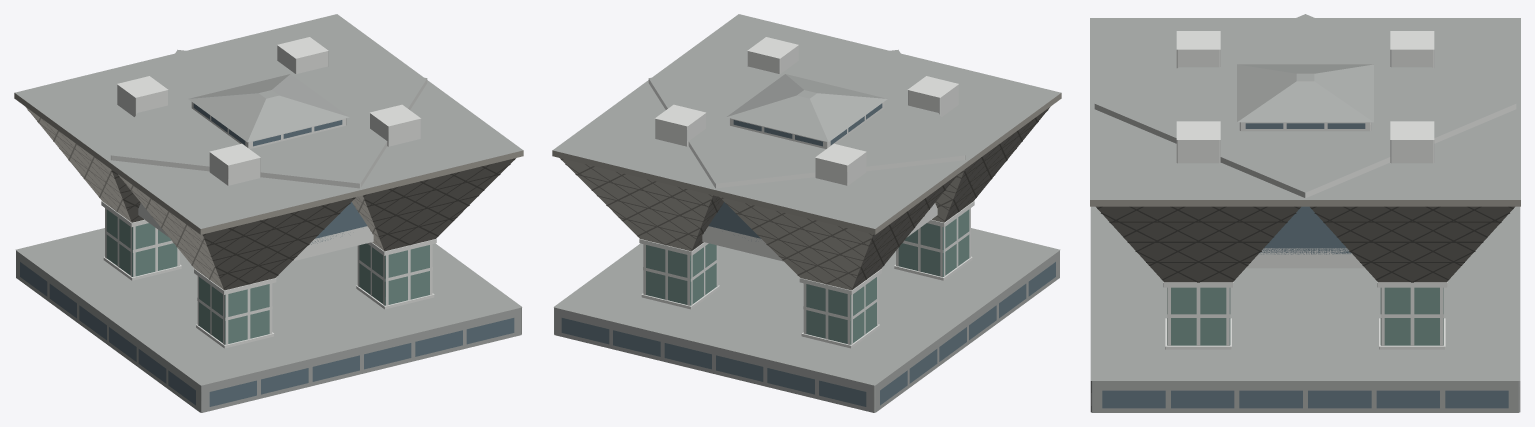
File: tokyo-big-sight.glb
3 views of the same model, side by side, from view 1: azimuth 30°, elevation 25°; view 2: azimuth 150°, elevation 25°; view 3: azimuth 270°, elevation 25° (orthographic). The views are drawn at different scales.
Parts seen in each view (by area): view 1: Tokyo Big Sight Conference Tower; view 2: Tokyo Big Sight Conference Tower; view 3: Tokyo Big Sight Conference Tower.
Boxes of the visible parts, x1,y1,x2,y2 form: Tokyo Big Sight Conference Tower: [14, 14, 523, 412]; Tokyo Big Sight Conference Tower: [552, 14, 1061, 412]; Tokyo Big Sight Conference Tower: [1090, 14, 1520, 412].
Size of the model in its own units: 98.1 by 61.5 by 98.1.
